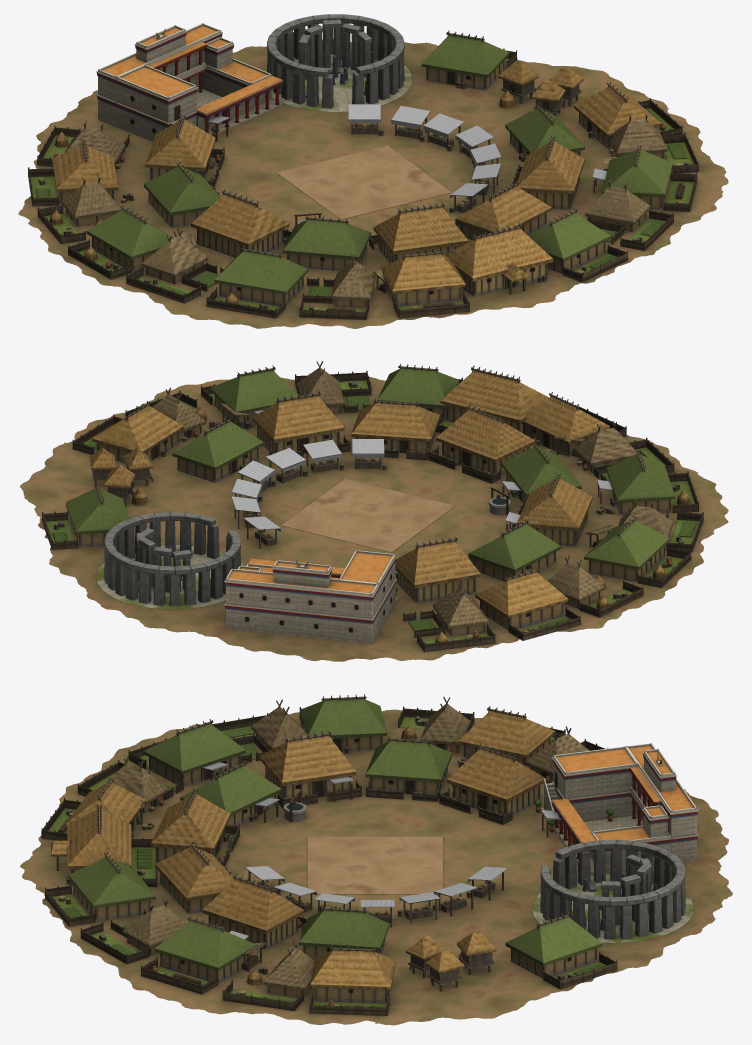
File: bronze-town-big-b-europe.glb
3 views of the same model, one above another, from view 1: azimuth 30°, elevation 25°; view 2: azimuth 150°, elevation 25°; view 3: azimuth 270°, elevation 25° (orthographic). The views are drawn at different scales.
Visible parts, largest first — view 1: LOD0; view 2: LOD0; view 3: LOD0.
Part boxes in pixels (x1,y1,x2,y2): LOD0: (18, 14, 728, 328); LOD0: (20, 361, 728, 661); LOD0: (20, 694, 732, 1025).
Size of what is drawn, in the model's own units: 7.93 by 0.8738 by 7.49.
Materials: 3 (3 with a texture image).
